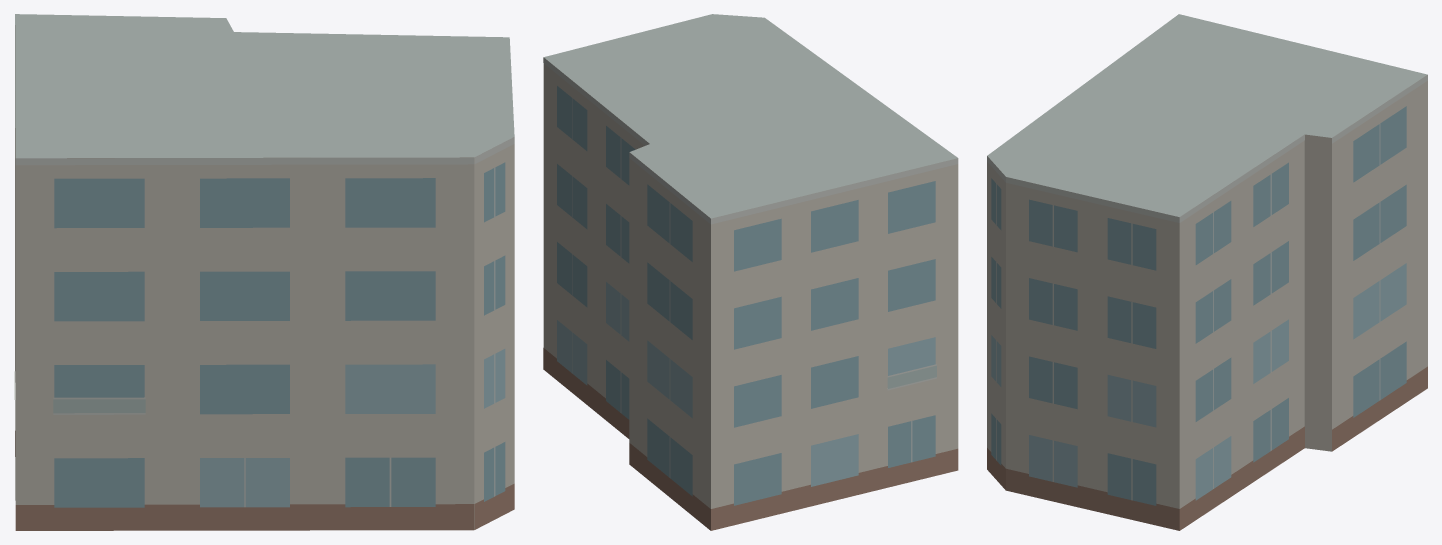
The model's file is survey-upis-32707423.glb.
3 views of the same model, side by side, from view 1: azimuth 30°, elevation 25°; view 2: azimuth 150°, elevation 25°; view 3: azimuth 270°, elevation 25° (orthographic). The views are drawn at different scales.
Visible parts, largest first — view 1: survey-upis-32707423.tmp; view 2: survey-upis-32707423.tmp; view 3: survey-upis-32707423.tmp.
Boxes of the visible parts, x1,y1,x2,y2 form: survey-upis-32707423.tmp: [14, 14, 514, 530]; survey-upis-32707423.tmp: [543, 14, 958, 530]; survey-upis-32707423.tmp: [987, 14, 1427, 530].
Size of the model in its own units: 17.93 by 12.9 by 16.43.
